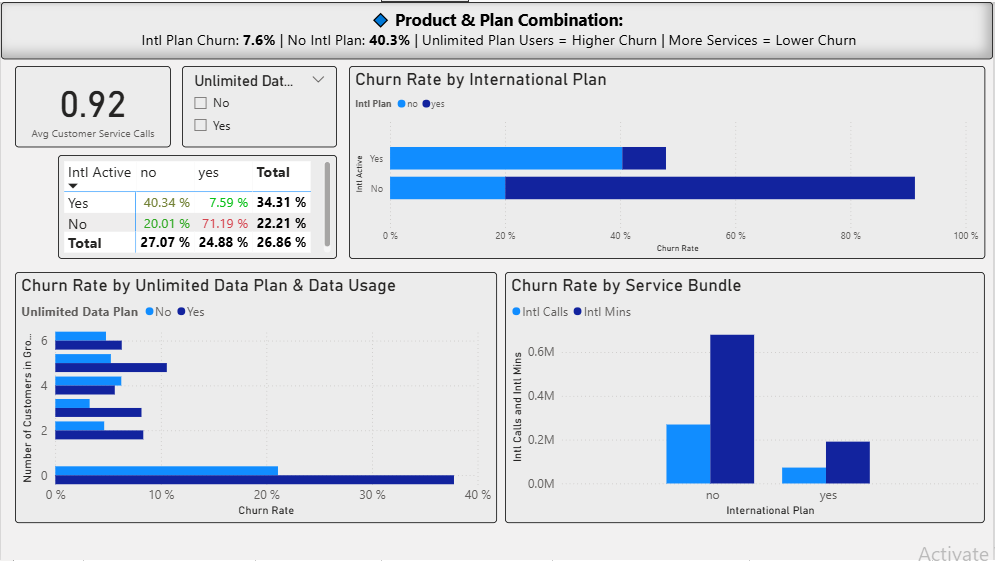

Layout of this report page (visuals, bound fields, positions):
{"tool":"powerbi","page":{"name":"Product & Plan Combination","canvas":[1280,720],"ordinal":4},"visuals":[{"type":"pivotTable","fields":{"Rows":["Databel - Data.Intl Active"],"Values":["Databel - Data.Churn Rate"],"Columns":["Databel - Data.Intl Plan"]},"box":[73.5,197.4,360,134.2],"z":0},{"type":"card","fields":{"Values":["Databel - Data.Avg Customer Service Calls"]},"box":[18.1,82.6,201.3,104.5],"z":1000},{"type":"barChart","title":"Churn Rate by International Plan","fields":{"Category":["Databel - Data.Intl Active"],"Series":["Databel - Data.Intl Plan"],"Y":["Databel - Data.Churn Rate"]},"box":[449,82.6,820.6,249],"z":2000},{"type":"clusteredBarChart","title":"Churn Rate by Unlimited Data Plan & Data Usage","fields":{"Y":["Databel - Data.Churn Rate"],"Category":["Databel - Data.Number of Customers in Group"],"Series":["Databel - Data.Unlimited Data Plan"]},"box":[18.1,348.4,621.9,323.9],"z":3000},{"type":"lineClusteredColumnComboChart","title":"Churn Rate by Service Bundle","fields":{"Y":["Sum(Databel - Data.Intl Calls)","Sum(Databel - Data.Intl Mins)"],"Category":["Databel - Data.Intl Plan"]},"box":[650.3,348.4,619.4,323.9],"z":4000},{"type":"slicer","fields":{"Values":["Databel - Data.Unlimited Data Plan"]},"box":[233.5,82.6,200,104.5],"z":5000},{"type":"textbox","box":[0,0,1280,73.5],"z":6000}]}

Visuals, with their boxes in screenshot pixels (x1, y1, x2, y2), scaled from the page's 1280x720 canvas onto the 995x561 screenshot:
pivotTable - Databel - Data.Intl Active x Databel - Data.Churn Rate: box(57, 154, 337, 258)
card - Databel - Data.Avg Customer Service Calls: box(14, 64, 171, 146)
"Churn Rate by International Plan" barChart: box(349, 64, 987, 258)
"Churn Rate by Unlimited Data Plan & Data Usage" clusteredBarChart: box(14, 271, 498, 524)
"Churn Rate by Service Bundle" lineClusteredColumnComboChart: box(506, 271, 987, 524)
slicer - Databel - Data.Unlimited Data Plan: box(182, 64, 337, 146)
textbox: box(0, 0, 994, 57)
